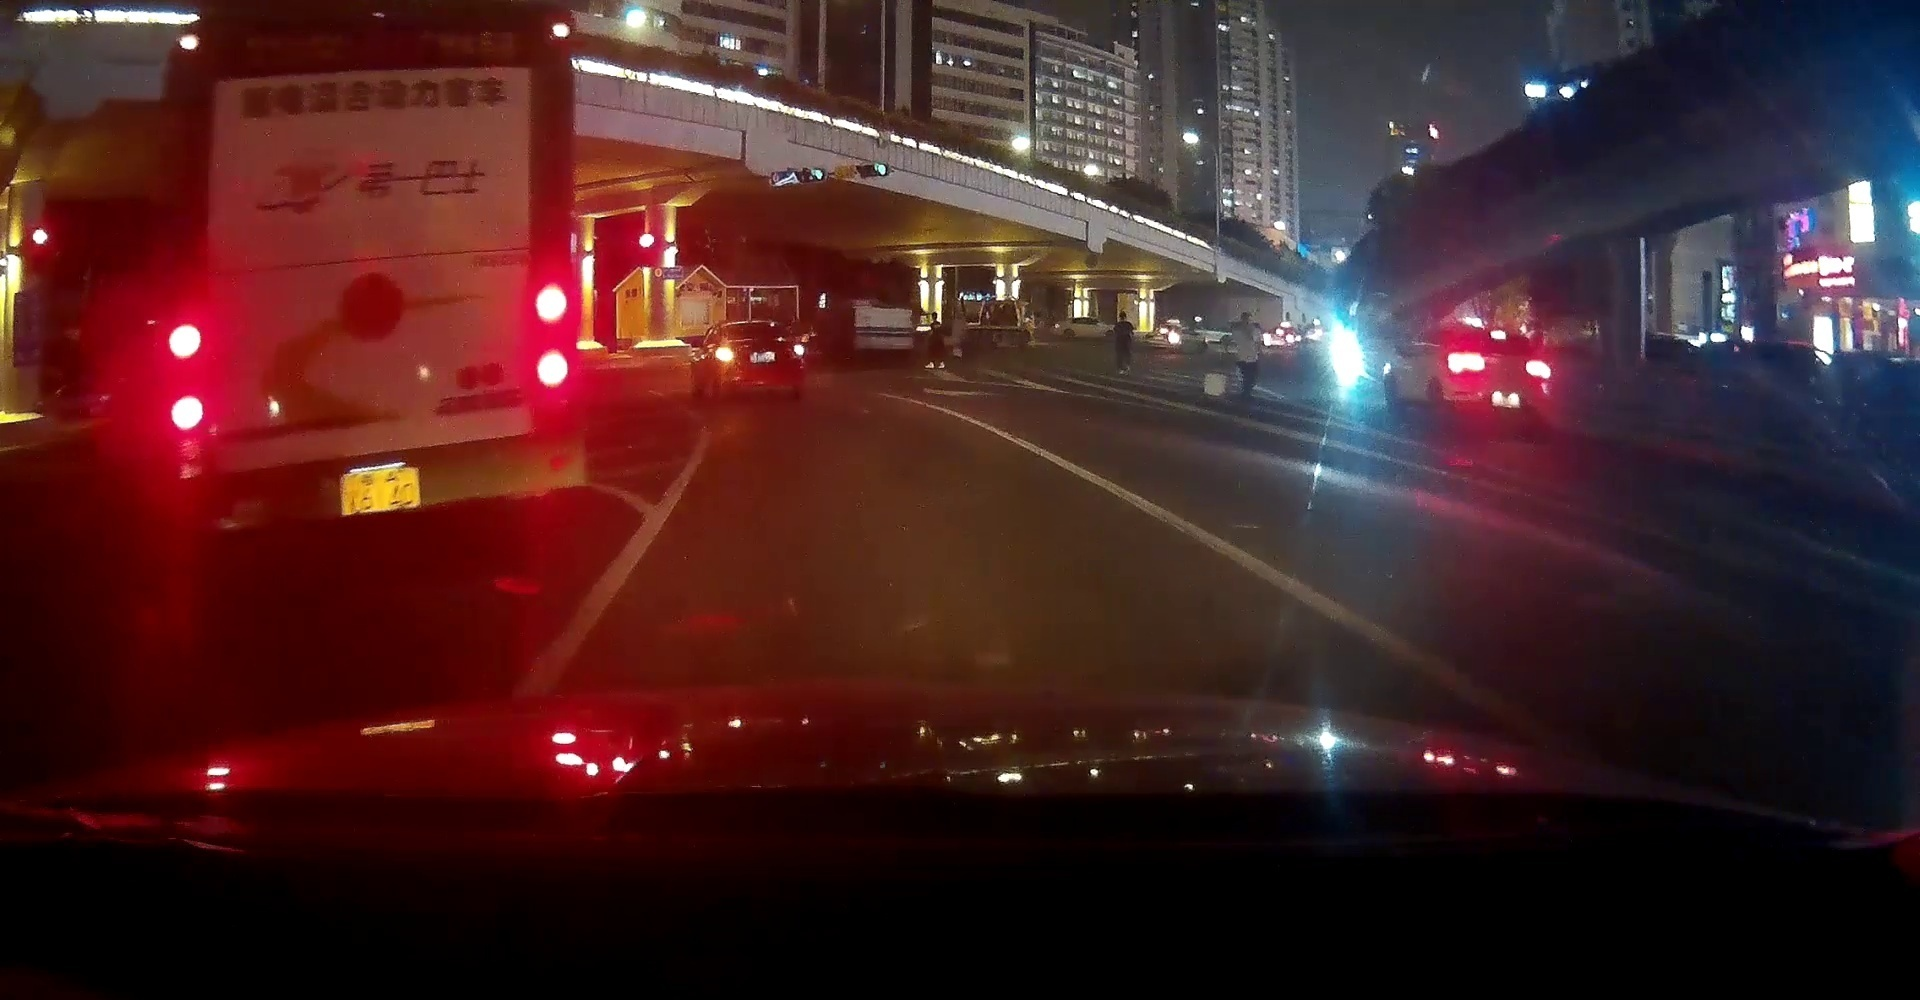L_light: (168, 324, 203, 431), (1448, 355, 1484, 371), (716, 348, 734, 360)
R_light: (535, 283, 566, 390), (1524, 360, 1550, 377), (792, 345, 804, 357)
T_light: (337, 43, 439, 66), (1490, 332, 1506, 339)
night-brake: (1443, 325, 1552, 418), (747, 324, 759, 327)
night-no: (163, 0, 588, 558), (712, 320, 804, 397)
